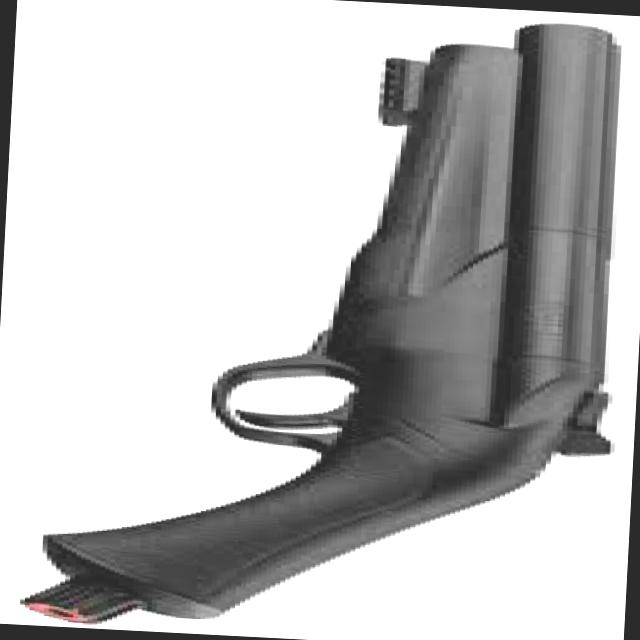long weapon: (13, 0, 640, 631)
